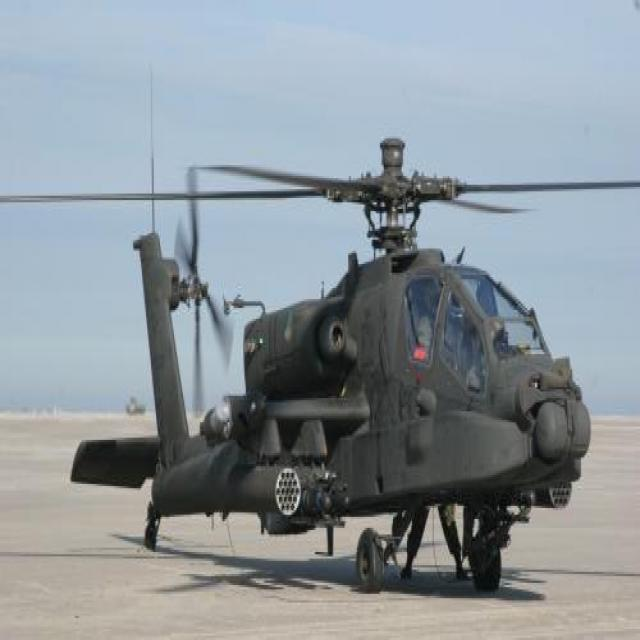MIL_HELO: (0, 129, 632, 591)
